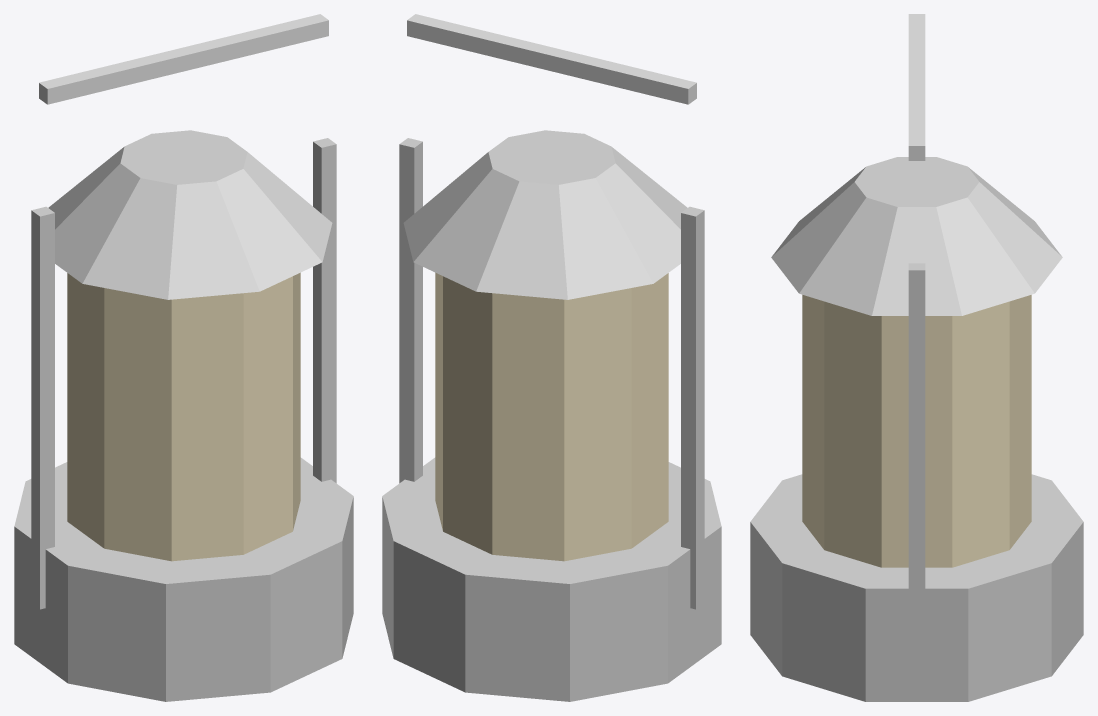
Rendered from lantern.glb.
3 renders of one model, left to right at view 1: azimuth 30°, elevation 25°; view 2: azimuth 150°, elevation 25°; view 3: azimuth 270°, elevation 25°, orthographic. The views are drawn at different scales.
Parts seen in each view (by area): view 1: lantern; view 2: lantern; view 3: lantern.
Part boxes in pixels (<box>): lantern: <box>14,14,353,701</box>; lantern: <box>382,14,721,701</box>; lantern: <box>750,14,1083,701</box>.
Bounding box in the file's own units: 0.158 × 0.294 × 0.16.
